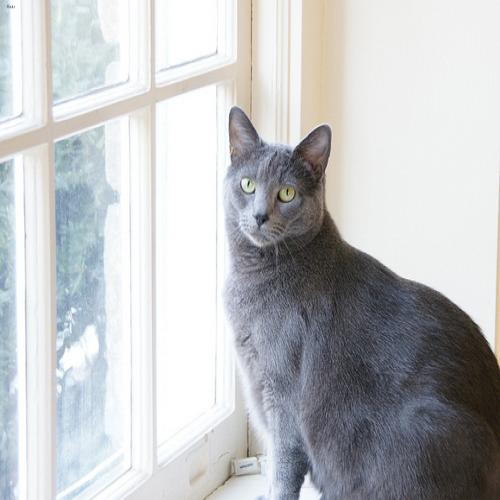rblue: (209, 96, 340, 259)
